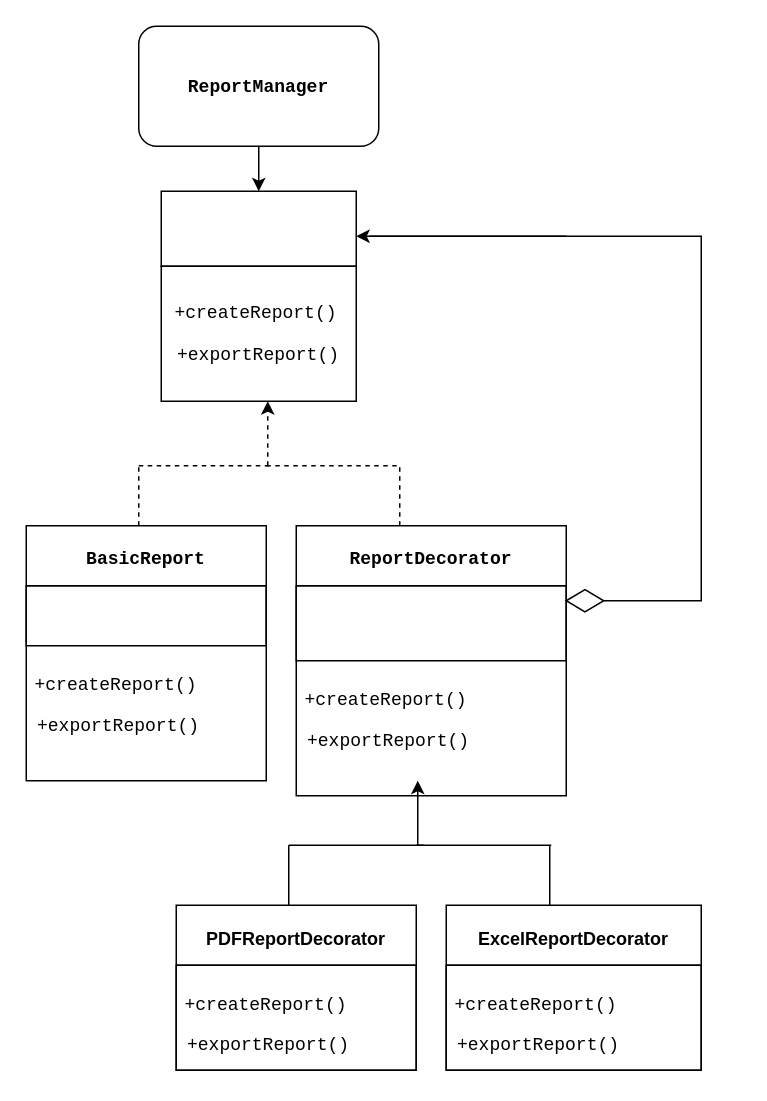
Some shapes in this 767 by 1101 pixel diagram are drawn without their labels. The shapes that lost their labels are listed below. From the top down, each one's centre as x and y in pixels, then its label:
At point (258, 228): "«interface» ReportService".
At point (145, 615): "-filename".
At point (430, 622): "- wrappee: ReportService".
